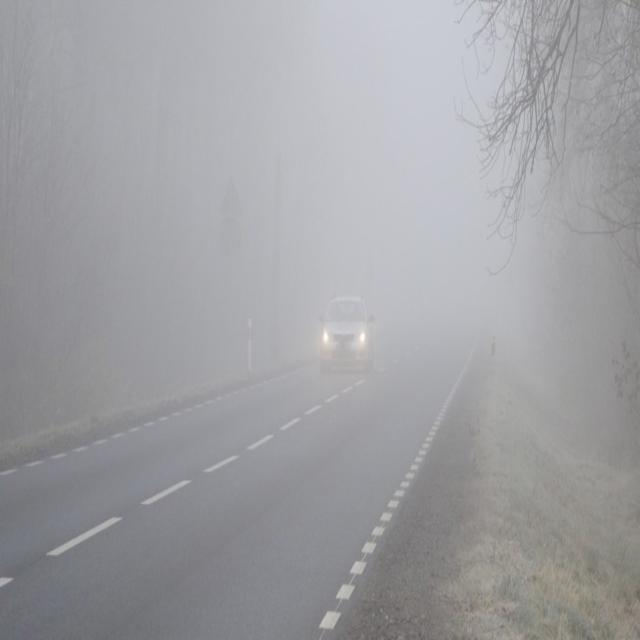car: (319, 295, 373, 373)
